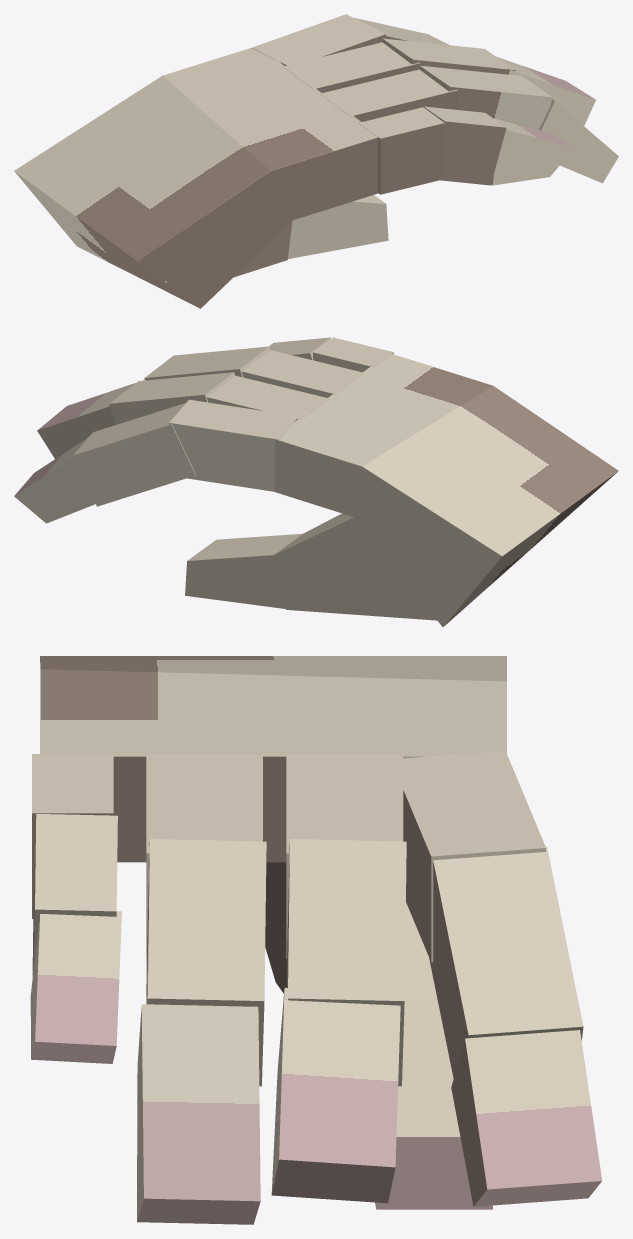
The model's file is hand.fbx.
3 views of the same model, one above another, from view 1: azimuth 30°, elevation 25°; view 2: azimuth 150°, elevation 25°; view 3: azimuth 270°, elevation 25° (orthographic). The views are drawn at different scales.
Parts seen in each view (by area): view 1: palm, cuboid_9, cuboid_7, cuboid_13, cuboid_10, cuboid_6, cuboid_3, cuboid, cuboid_11, cuboid_8, cuboid_4, cuboid_5 (+2 smaller); view 2: palm, cuboid_12, cuboid, cuboid_1, cuboid_13, cuboid_2, cuboid_4, cuboid_6, cuboid_3, cuboid_5, cuboid_7, cuboid_9 (+1 smaller); view 3: palm, cuboid_8, cuboid_1, cuboid_5, cuboid_2, cuboid_7, cuboid_4, cuboid, cuboid_11, cuboid_13, cuboid_3, cuboid_6 (+3 smaller).
Part boxes in pixels (<box>): palm: <box>14,48,378,308</box>; cuboid_9: <box>359,107,444,194</box>; cuboid_7: <box>418,65,552,129</box>; cuboid_13: <box>287,195,388,258</box>; cuboid_10: <box>423,106,506,185</box>; cuboid_6: <box>320,69,457,121</box>; cuboid_3: <box>283,42,420,92</box>; cuboid: <box>252,14,385,65</box>; cuboid_11: <box>491,118,574,185</box>; cuboid_8: <box>539,99,618,183</box>; cuboid_4: <box>381,38,515,74</box>; cuboid_5: <box>496,56,595,125</box>; palm: <box>275,354,618,626</box>; cuboid_12: <box>274,513,436,620</box>; cuboid: <box>169,399,297,491</box>; cuboid_1: <box>73,403,195,506</box>; cuboid_13: <box>185,533,302,609</box>; cuboid_2: <box>14,437,95,523</box>; cuboid_4: <box>109,372,235,424</box>; cuboid_6: <box>241,350,364,397</box>; cuboid_3: <box>206,375,329,420</box>; cuboid_5: <box>37,379,145,458</box>; cuboid_7: <box>144,346,270,380</box>; cuboid_9: <box>313,337,393,372</box>; palm: <box>40,656,506,862</box>; cuboid_8: <box>137,1004,260,1224</box>; cuboid_1: <box>429,846,583,1078</box>; cuboid_5: <box>271,987,400,1203</box>; cuboid_2: <box>451,1030,602,1206</box>; cuboid_7: <box>146,839,266,1086</box>; cuboid_4: <box>286,839,406,1086</box>; cuboid: <box>391,750,545,962</box>; cuboid_11: <box>30,911,121,1063</box>; cuboid_13: <box>375,997,492,1209</box>; cuboid_3: <box>286,754,403,958</box>; cuboid_6: <box>146,754,262,958</box>.
Bounding box in the file's own units: 60.96 × 21.99 × 30.6.
1 material, 1 textured.
